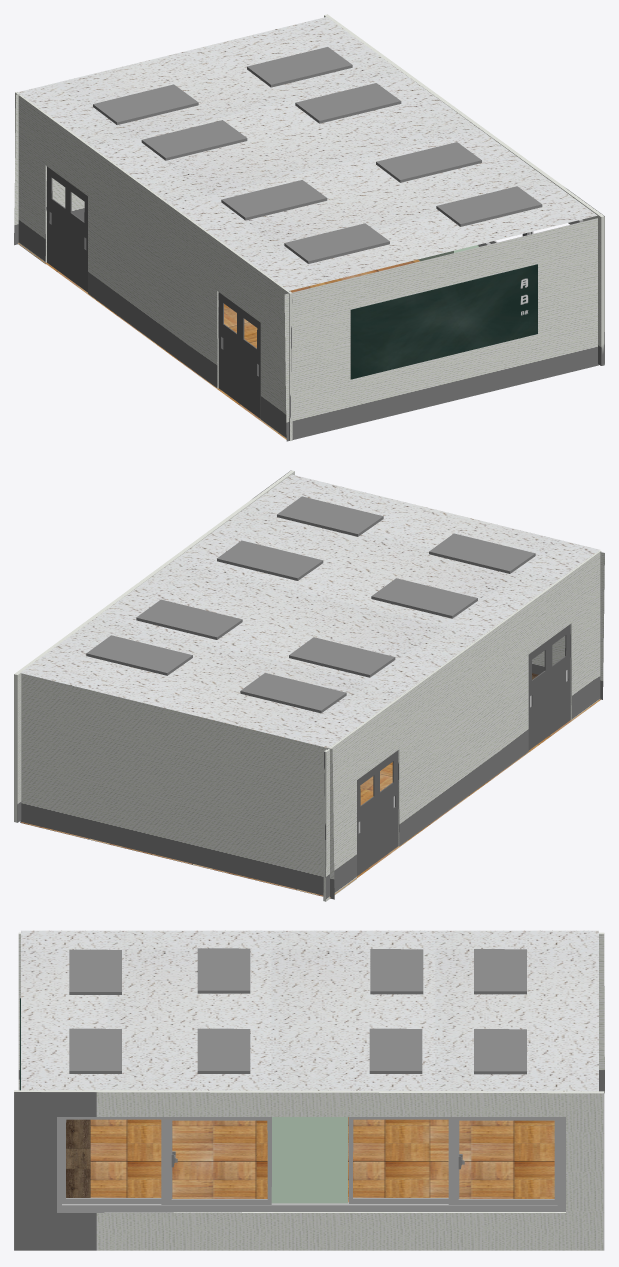
File: ClassRoom.FBX
The picture shows the model from 3 angles, top to bottom: view 1: azimuth 30°, elevation 25°; view 2: azimuth 150°, elevation 25°; view 3: azimuth 270°, elevation 25°; orthographic projection. The views are drawn at different scales.
Visible parts, largest first — view 1: ceiling, frontWall, DoorWall, Blackboard, WindowWallm, Frame009, Frame002, Frame010, Frame003, Frame008, Frame001, Frame (+7 smaller); view 2: ceiling, BackWall, DoorWall, WindowWallm, Frame002, Frame009, Frame, Frame003, Frame011, Frame008, Frame010, Frame001 (+6 smaller); view 3: ceiling, WindowWallm, Floor, Box005, Line003, Frame002, Frame010, Frame003, Frame008, Frame, Frame001, Frame011 (+7 smaller).
Boxes of the visible parts, <box> form: ceiling: <box>18,17,597,290</box>; frontWall: <box>284,218,598,441</box>; DoorWall: <box>15,92,292,440</box>; Blackboard: <box>350,264,537,379</box>; WindowWallm: <box>324,14,604,365</box>; Frame009: <box>436,186,542,226</box>; Frame002: <box>141,120,247,160</box>; Frame010: <box>221,180,327,220</box>; Frame003: <box>295,83,401,123</box>; Frame008: <box>376,142,481,182</box>; Frame001: <box>93,84,198,124</box>; Frame: <box>247,47,352,87</box>; ceiling: <box>20,474,599,748</box>; BackWall: <box>20,673,334,899</box>; DoorWall: <box>323,550,601,901</box>; WindowWallm: <box>14,470,294,822</box>; Frame002: <box>289,637,395,677</box>; Frame009: <box>277,496,383,536</box>; Frame: <box>86,635,192,675</box>; Frame003: <box>136,599,242,639</box>; Frame011: <box>429,533,535,573</box>; Frame008: <box>217,540,323,580</box>; Frame010: <box>371,578,477,618</box>; Frame001: <box>240,673,346,713</box>; ceiling: <box>21,930,598,1091</box>; WindowWallm: <box>14,1090,604,1250</box>; Floor: <box>90,1117,554,1202</box>; Box005: <box>271,1117,347,1203</box>; Line003: <box>57,1117,565,1211</box>; Frame002: <box>370,949,423,994</box>; Frame010: <box>197,948,250,993</box>; Frame003: <box>369,1028,422,1073</box>; Frame008: <box>197,1028,250,1073</box>; Frame: <box>474,1029,526,1074</box>; Frame001: <box>474,949,526,994</box>; Frame011: <box>69,949,121,994</box>.
Size of the model in its own units: 848 by 394 by 1285.
Materials: 16 (9 with a texture image).
